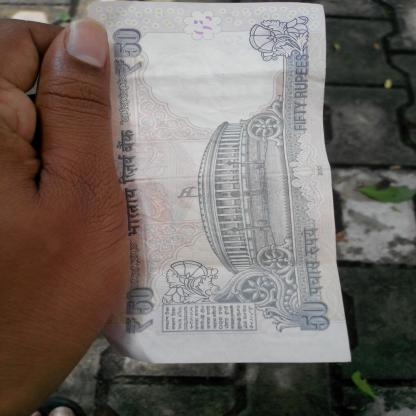Old50Back: (87, 0, 351, 363)
